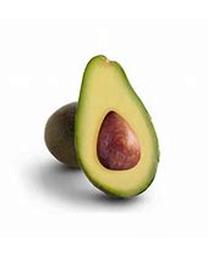avocado: (73, 54, 161, 200)
